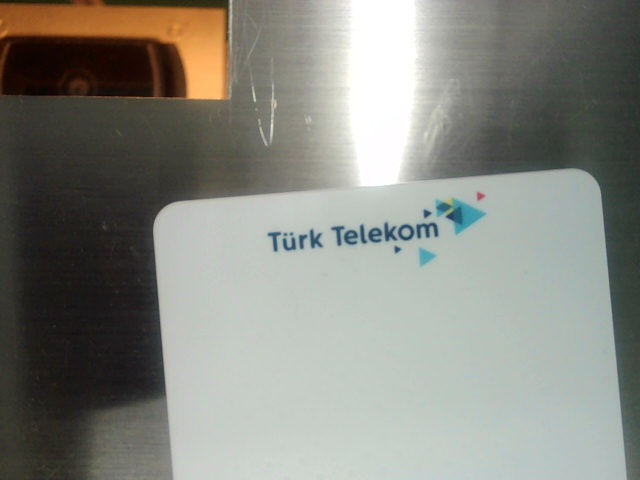AQ_TURKTelekom: (262, 192, 513, 268)
